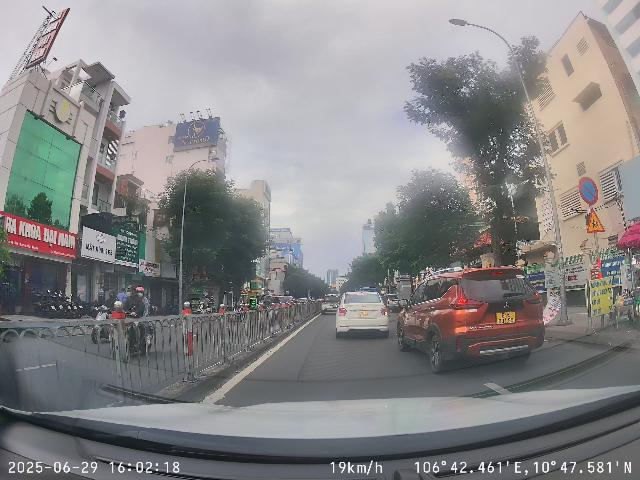130-cam-dung-va-do-xe: (579, 177, 599, 205)
225-chu-y-tre-em: (587, 208, 605, 232)
